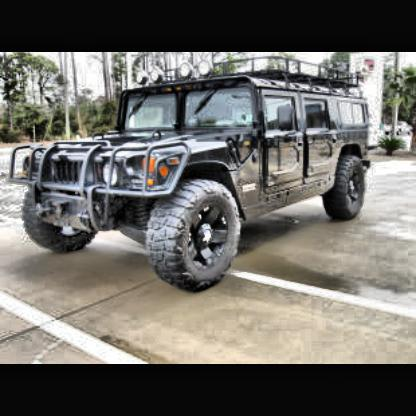AM General Hummer SUV 2000: (10, 57, 372, 293)
